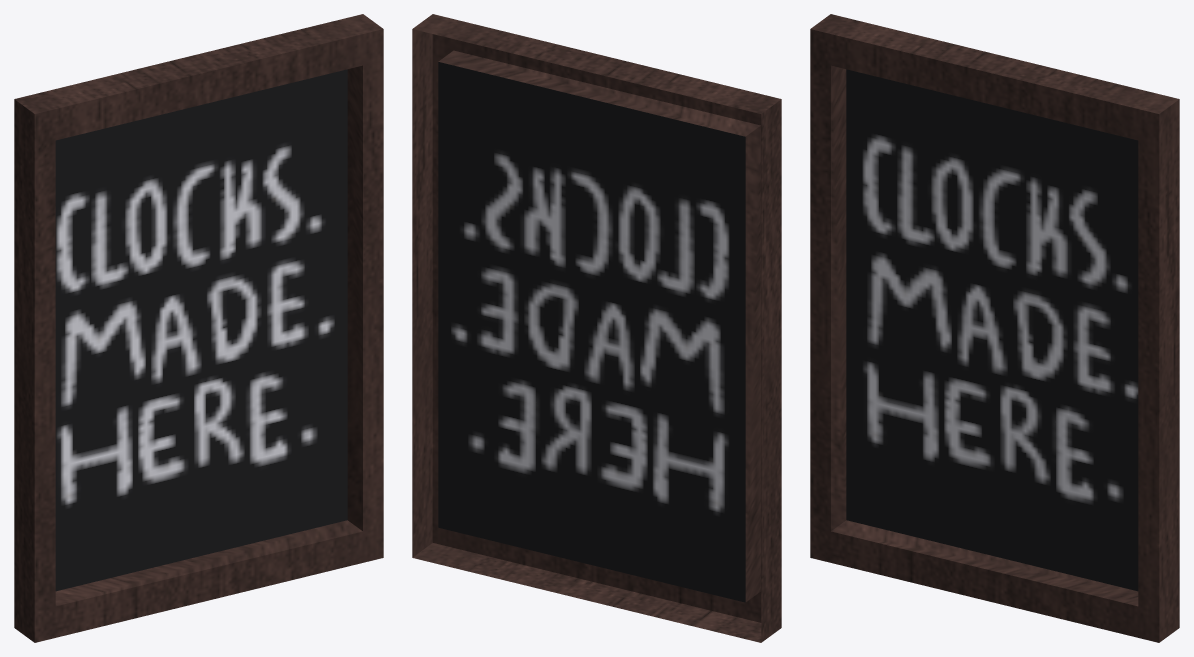
Rendered from poster 1.fbx.
3 renders of one model, left to right at view 1: azimuth 30°, elevation 25°; view 2: azimuth 150°, elevation 25°; view 3: azimuth 330°, elevation 25°, orthographic.
Parts seen in each view (by area): view 1: Cube.008; view 2: Cube.008; view 3: Cube.008.
Part boxes in pixels (x1,y1,x2,y2): Cube.008: (14,14,383,642); Cube.008: (412,14,781,642); Cube.008: (810,14,1179,642).
Size of the model in its own units: 112 by 162 by 11.39.
